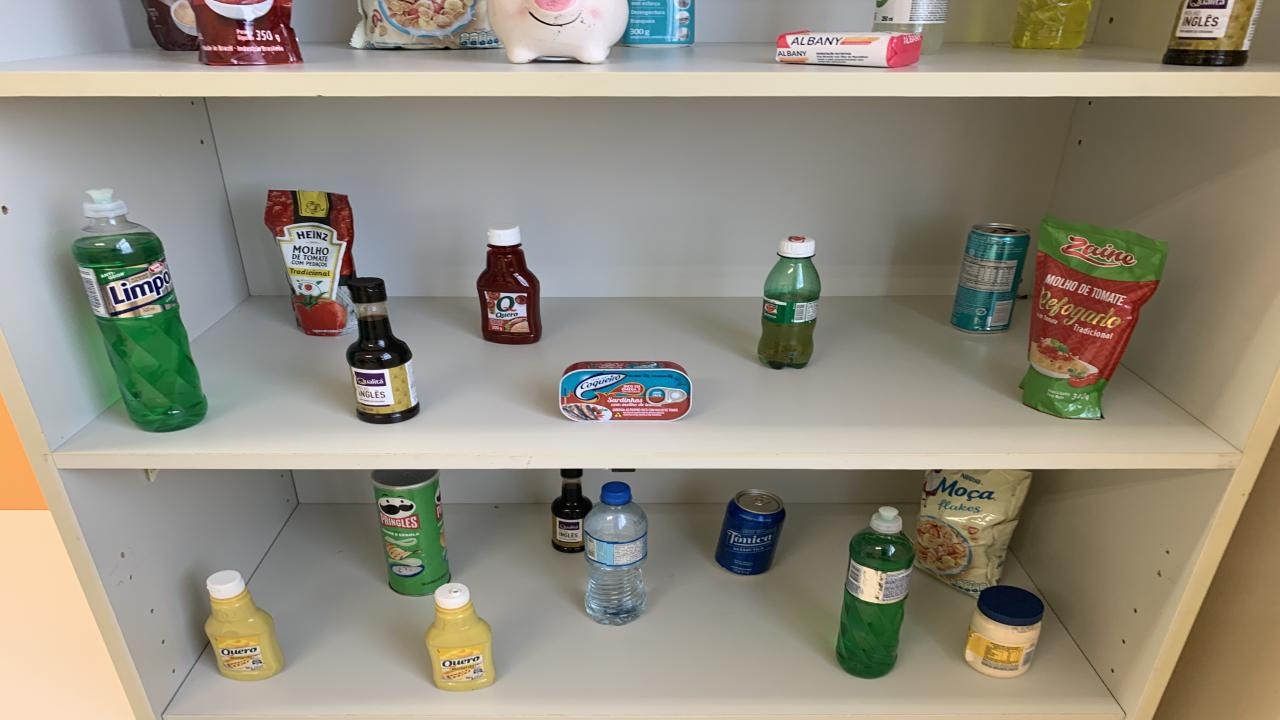Cleaner-Cleanup_Items: (620, 0, 695, 47)
Coffee-Pantry_Items: (142, 0, 200, 51)
Detergent-Cleanup_Items: (72, 214, 208, 431), (838, 506, 915, 679), (1010, 0, 1092, 49)
English_Sauce-Pantry_Items: (345, 278, 420, 424), (1162, 0, 1262, 66), (550, 469, 592, 553)
Flakes-Snacks: (912, 469, 1032, 596), (350, 0, 500, 49)
Guarana-Drinks: (758, 236, 820, 369)
Ketchup-Pantry_Items: (478, 223, 542, 345)
Mayonnaise-Pantry_Items: (965, 585, 1045, 677)
Mustard-Pantry_Items: (205, 570, 285, 681), (425, 583, 495, 692)
Pig_Safe-Miscellaneous: (488, 0, 630, 64)
Pringles-Snacks: (370, 469, 450, 596)
Soap-Cleanup_Items: (775, 32, 922, 68)
Soda-Drinks: (872, 0, 948, 54)
Tea-Drinks: (950, 223, 1030, 334)
Tomato_Sauce-Pantry_Items: (1020, 214, 1168, 418), (265, 189, 358, 336), (190, 0, 302, 66)
Tonic-Drinks: (715, 489, 785, 576)
Tuna_Can-Pantry_Items: (560, 360, 692, 422)
Water_Bottle-Drinks: (585, 482, 648, 624)
